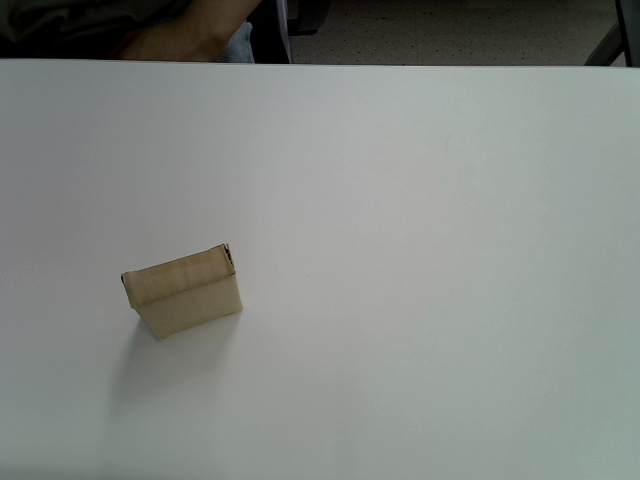normal: (121, 242, 247, 341)
